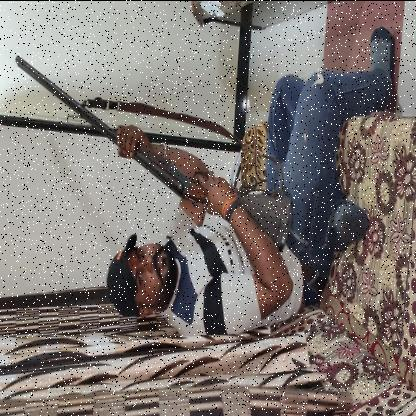rifle: (14, 52, 296, 254)
